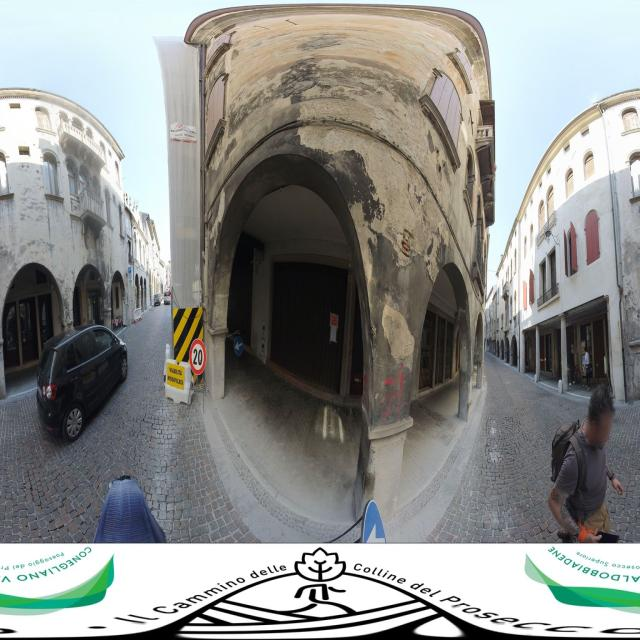car: (35, 322, 129, 444), (162, 289, 172, 305), (153, 292, 163, 306)
